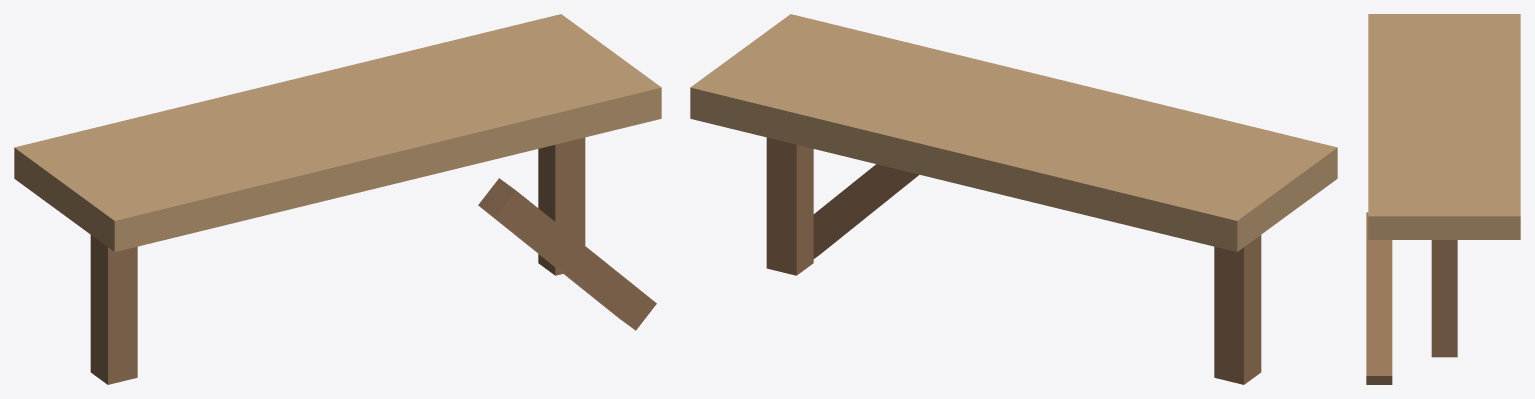
Rendered from bench_collapsed.glb.
The picture shows the model from 3 angles, left to right: view 1: azimuth 30°, elevation 25°; view 2: azimuth 150°, elevation 25°; view 3: azimuth 270°, elevation 25°; orthographic projection. The views are drawn at different scales.
Parts seen in each view (by area): view 1: bench_collapsed; view 2: bench_collapsed; view 3: bench_collapsed.
Boxes of the visible parts, box(x1,y1,x2,y2) form: bench_collapsed: box(14, 14, 661, 384); bench_collapsed: box(690, 14, 1337, 384); bench_collapsed: box(1366, 14, 1520, 384).
Bounding box in the file's own units: 2.2 × 0.9053 × 0.71.
